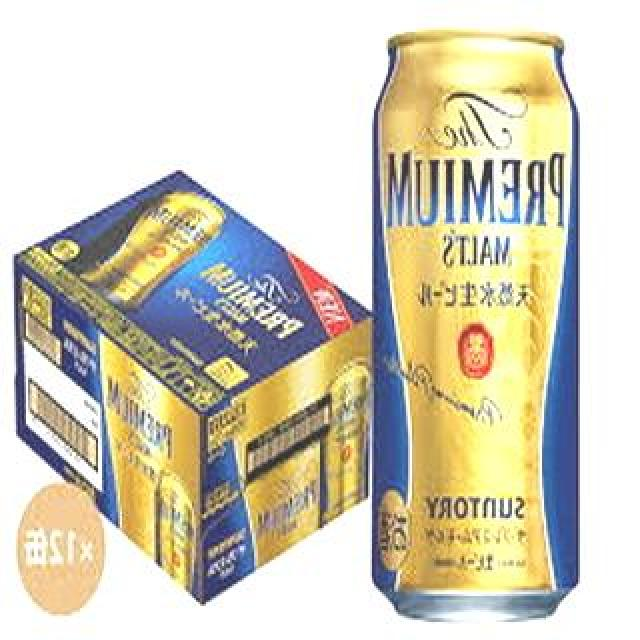Can: (357, 21, 587, 619)
